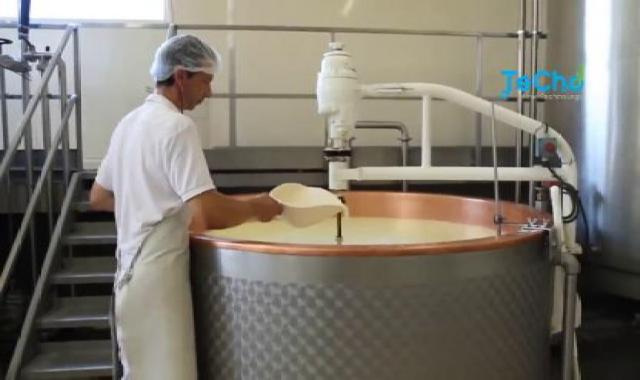hairnet: (148, 35, 235, 91)
